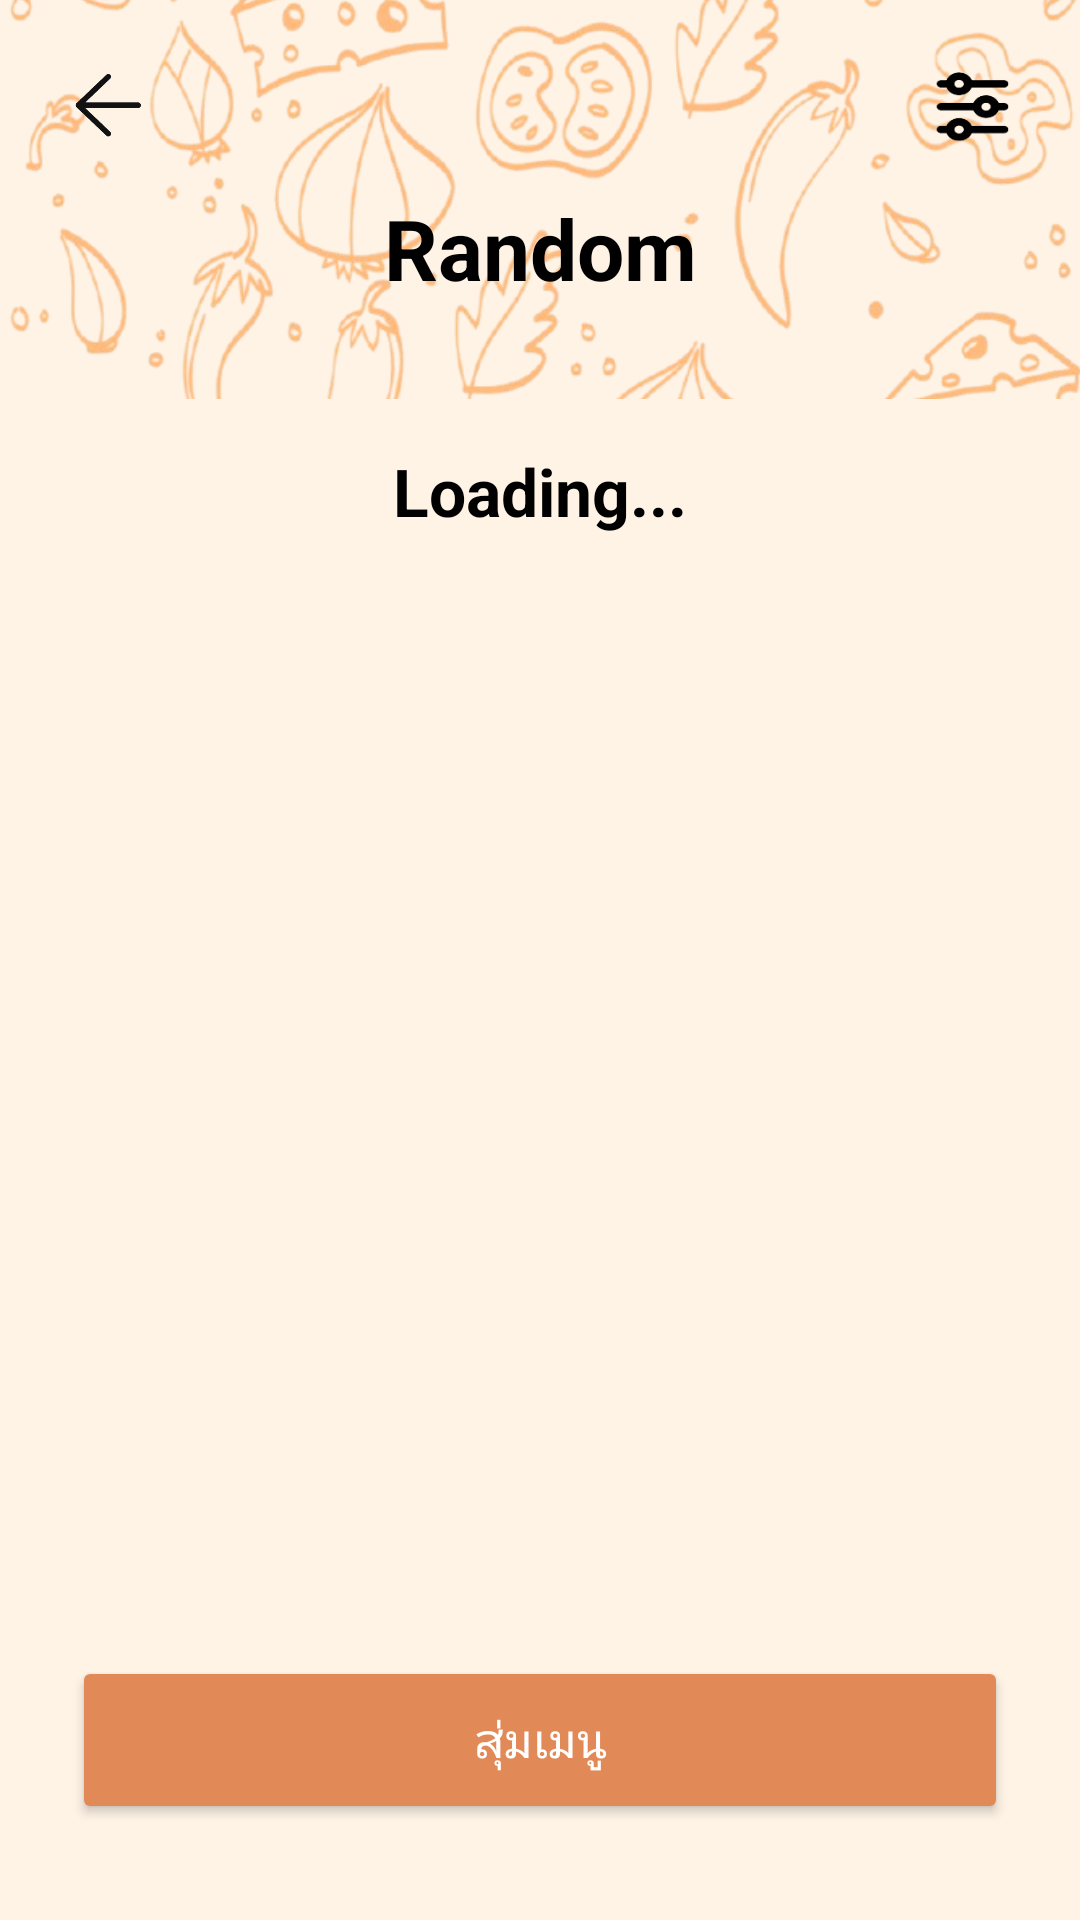

Locate icon controls on the screen. Image size 1080w x 1920h, boxes as rect(x1, y1, x2, y2).
back: rect(48, 50, 168, 168)
filter: rect(912, 48, 1032, 168)
